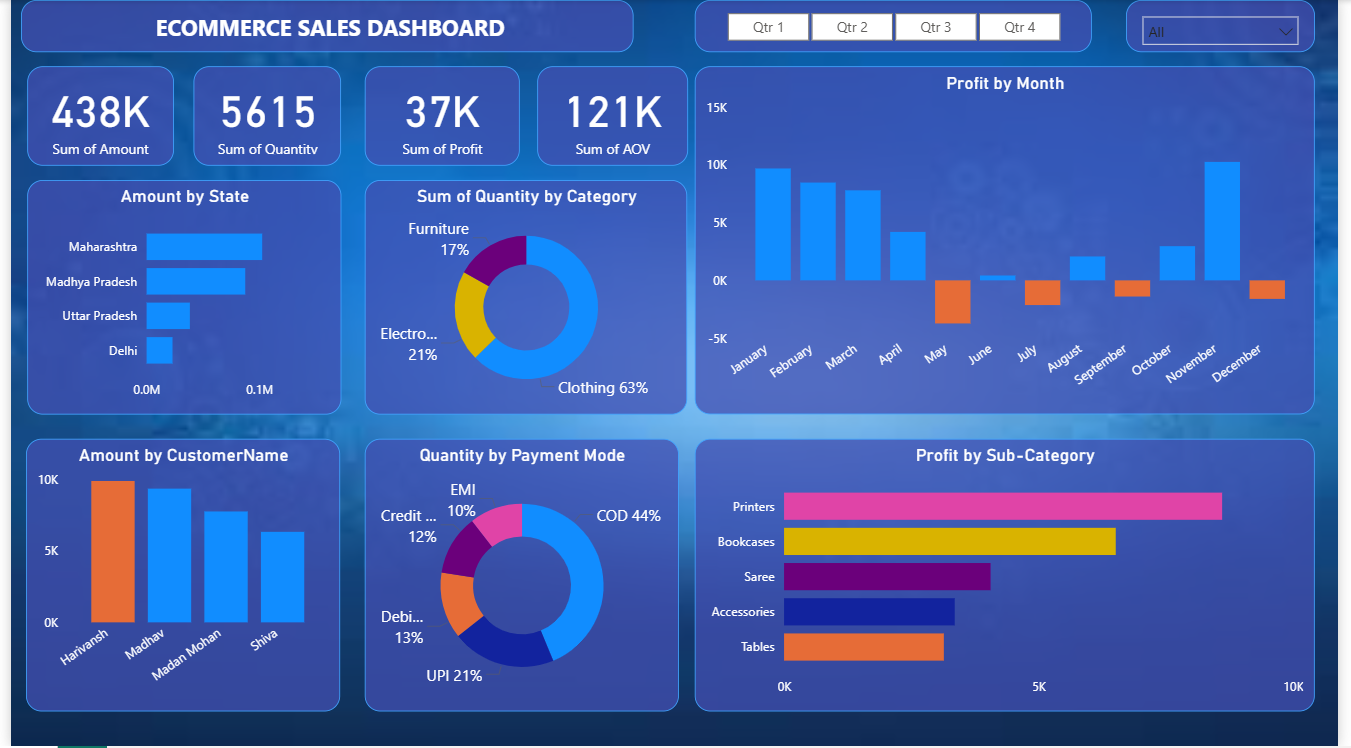

The page's visual inventory and layout, read from the dashboard file:
{"tool":"powerbi","page":{"name":"Page 1","canvas":[1280,720],"ordinal":0},"visuals":[{"type":"textbox","box":[9.6,0,591.4,50.8],"z":0},{"type":"columnChart","title":"Profit by Month","fields":{"Category":["Orders.Order Date.Variation.Date Hierarchy.Month"],"Y":["Details.Profit"]},"box":[660,64.5,598.3,336.2],"z":1000},{"type":"barChart","title":"Profit by Sub-Category","fields":{"Category":["Details.Sub-Category"],"Y":["Details.Profit"]},"box":[660,424,598.3,263.5],"z":2000},{"type":"donutChart","fields":{"Category":["Details.Category"],"Y":["Details.Quantity"]},"box":[341.7,174.3,311.5,226.4],"z":3000},{"type":"donutChart","title":"Quantity by Payment Mode","fields":{"Y":["Details.Quantity"],"Category":["Details.PaymentMode"]},"box":[341.7,424,303.3,263.5],"z":4000},{"type":"card","fields":{"Values":["Details.Amount"]},"box":[15.1,64.5,141.3,96.1],"z":5000},{"type":"card","fields":{"Values":["Details.Quantity"]},"box":[175.6,64.5,142.7,96.1],"z":6000},{"type":"card","fields":{"Values":["Details.Profit"]},"box":[341.7,64.5,149.6,96.1],"z":7000},{"type":"card","fields":{"Values":["Details.AOV"]},"box":[507.7,64.5,145.5,96.1],"z":8000},{"type":"barChart","title":"Amount by State","fields":{"Category":["Orders.State"],"Y":["Details.Amount"]},"box":[15.1,174.3,303.3,226.4],"z":9000},{"type":"columnChart","title":"Amount by CustomerName","fields":{"Category":["Orders.CustomerName"],"Y":["Details.Amount"]},"box":[15,424,303,263],"z":10000},{"type":"slicer","fields":{"Values":["Orders.Order Date.Variation.Date Hierarchy.Quarter"]},"box":[660,0,382.8,50.8],"z":11000},{"type":"slicer","fields":{"Values":["Orders.State"]},"box":[1075.8,0,182.5,50.8],"z":12000}]}

Visuals, with their boxes in screenshot pixels (x1, y1, x2, y2), scaled from the page's 1280x720 canvas onto the 1351x748 screenshot:
textbox: box=[10, 0, 634, 53]
"Profit by Month" columnChart: box=[697, 67, 1328, 416]
"Profit by Sub-Category" barChart: box=[697, 440, 1328, 714]
donutChart - Details.Category x Details.Quantity: box=[361, 181, 689, 416]
"Quantity by Payment Mode" donutChart: box=[361, 440, 681, 714]
card - Details.Amount: box=[16, 67, 165, 167]
card - Details.Quantity: box=[185, 67, 336, 167]
card - Details.Profit: box=[361, 67, 519, 167]
card - Details.AOV: box=[536, 67, 689, 167]
"Amount by State" barChart: box=[16, 181, 336, 416]
"Amount by CustomerName" columnChart: box=[16, 440, 336, 714]
slicer - Orders.Order Date.Variation.Date Hierarchy.Quarter: box=[697, 0, 1101, 53]
slicer - Orders.State: box=[1135, 0, 1328, 53]
